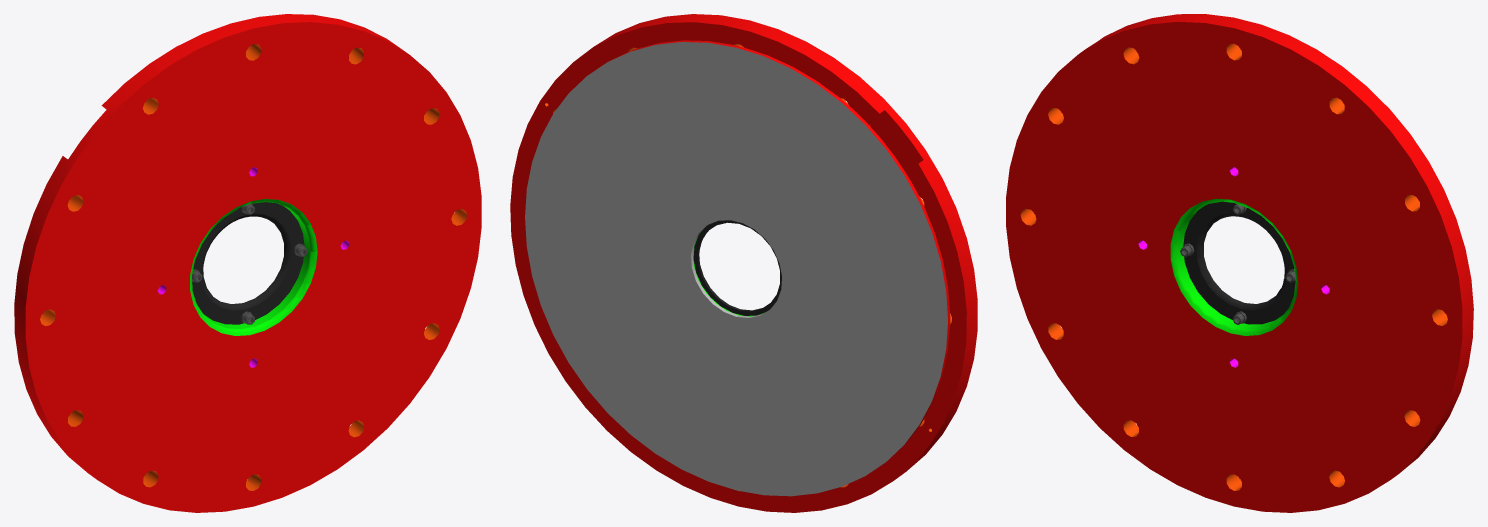
3 views of the same model, side by side, from view 1: azimuth 30°, elevation 25°; view 2: azimuth 150°, elevation 25°; view 3: azimuth 330°, elevation 25° (orthographic).
Parts seen in each view (by area): view 1: Node_000001670E3E54F0 (×5); view 2: Node_000001670E3E54F0 (×3); view 3: Node_000001670E3E54F0 (×5).
Boxes of the visible parts, x1,y1,x2,y2 form: Node_000001670E3E54F0 (×5): [14, 14, 481, 512]; Node_000001670E3E54F0 (×3): [510, 14, 977, 512]; Node_000001670E3E54F0 (×5): [1006, 14, 1473, 512].
Bounding box in the file's own units: 0.4997 × 0.5 × 0.025.
